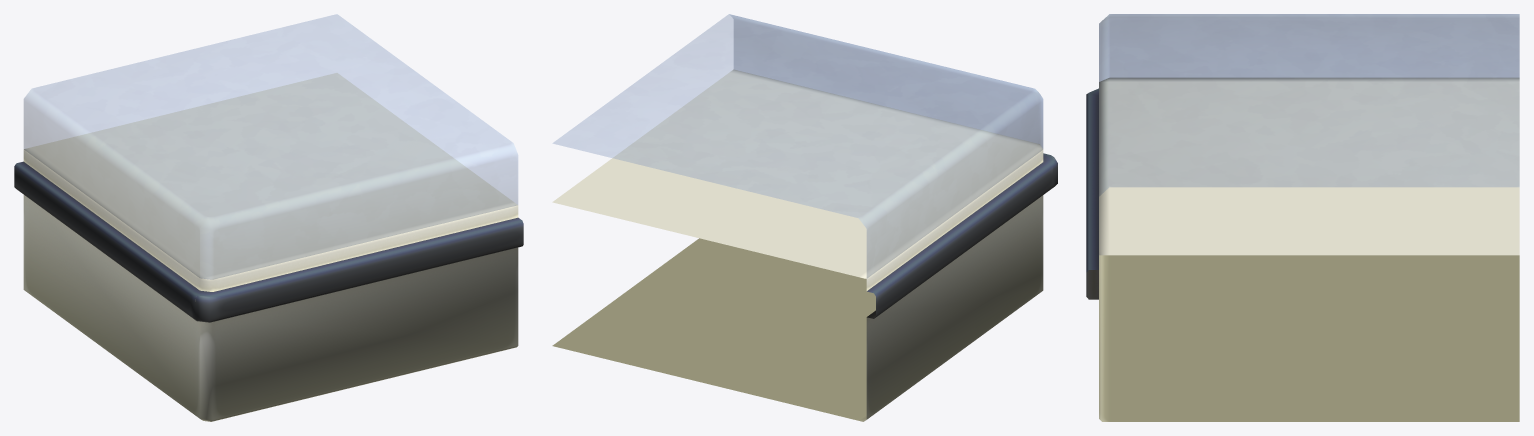
File: Vitrine_modulaire_3_LP.fbx
3 renders of one model, left to right at view 1: azimuth 30°, elevation 25°; view 2: azimuth 150°, elevation 25°; view 3: azimuth 270°, elevation 25°, orthographic. The views are drawn at different scales.
Visible parts, largest first — view 1: Vitrine modulaire 1.001; view 2: Vitrine modulaire 1.001; view 3: Vitrine modulaire 1.001.
Boxes of the visible parts, x1,y1,x2,y2 form: Vitrine modulaire 1.001: (14, 14, 523, 421); Vitrine modulaire 1.001: (552, 14, 1057, 421); Vitrine modulaire 1.001: (1086, 14, 1519, 421).
Bounding box in the file's own units: 100 × 60 × 100.
